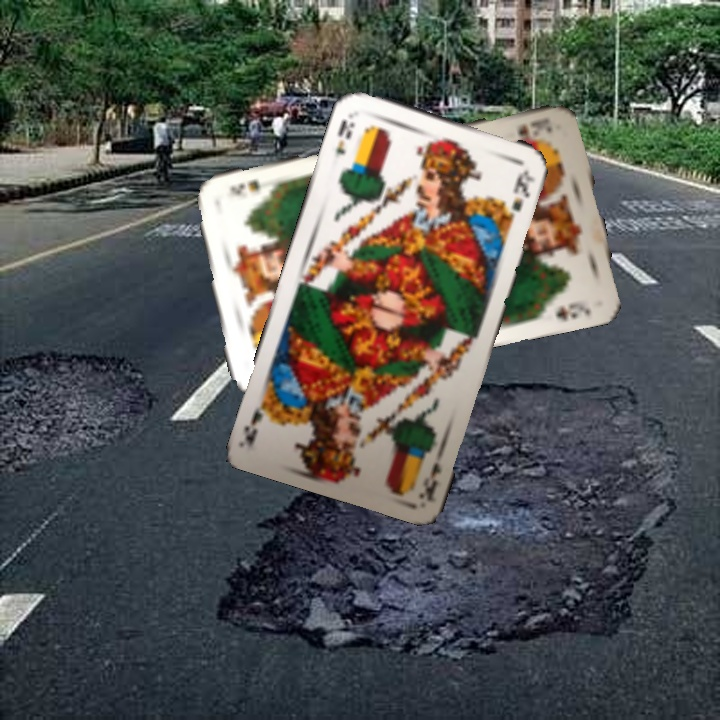EK: (415, 457, 443, 503), (331, 115, 358, 158)
SK: (507, 118, 554, 145)
